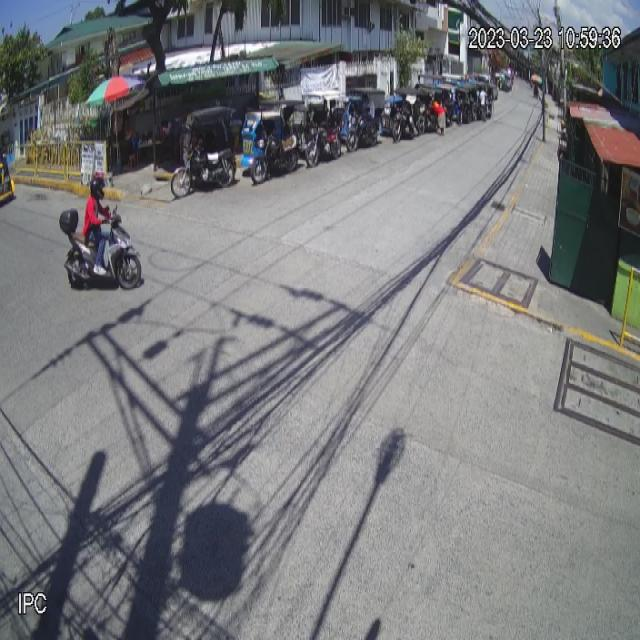Motorcycle: (59, 204, 142, 288)
